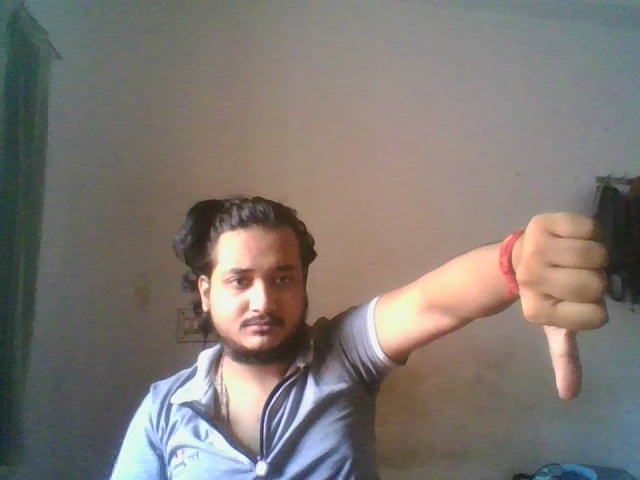ThumbsDown: (515, 212, 608, 404)
